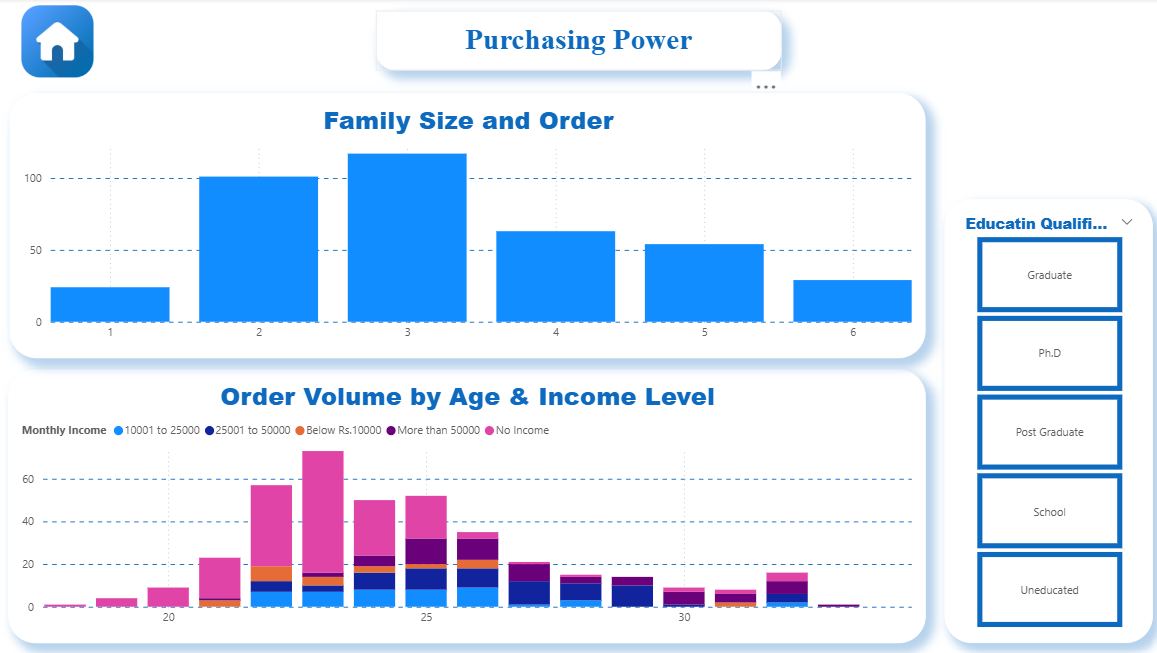

The dashboard page shown, as its layout file describes it:
{"tool":"powerbi","page":{"name":"Purchasing Power","canvas":[1280,720],"ordinal":2},"visuals":[{"type":"textbox","box":[415.8,13.7,446,65.9],"z":0},{"type":"columnChart","title":"Order Volume by Age & Income Level","fields":{"Category":["Table1.Age"],"Y":["CountNonNull(Table1.Output)"],"Series":["Table1.Monthly Income"]},"box":[12.3,407.5,1007.2,300.5],"z":1000},{"type":"clusteredColumnChart","title":"Family Size and Order","fields":{"Category":["Table1.Family size"],"Y":["CountNonNull(Table1.Output)"]},"box":[13.7,104.3,1005.8,290.9],"z":2000},{"type":"slicer","fields":{"Values":["Table1.Educational Qualifications"]},"box":[1040.1,220.9,229.2,487.1],"z":3000},{"type":"image","box":[22,0,89.2,94.7],"z":4000},{"type":"slicer","fields":{"Values":["Table1.Output"]},"box":[1058,26.1,194.9,188],"z":5000}]}

Visuals, with their boxes in screenshot pixels (x1, y1, x2, y2), scaled from the page's 1280x720 canvas onto the 1157x653 screenshot:
textbox: [x1=376, y1=12, x2=779, y2=72]
"Order Volume by Age & Income Level" columnChart: [x1=11, y1=370, x2=922, y2=642]
"Family Size and Order" clusteredColumnChart: [x1=12, y1=95, x2=922, y2=358]
slicer - Table1.Educational Qualifications: [x1=940, y1=200, x2=1147, y2=642]
image: [x1=20, y1=0, x2=101, y2=86]
slicer - Table1.Output: [x1=956, y1=24, x2=1133, y2=194]
